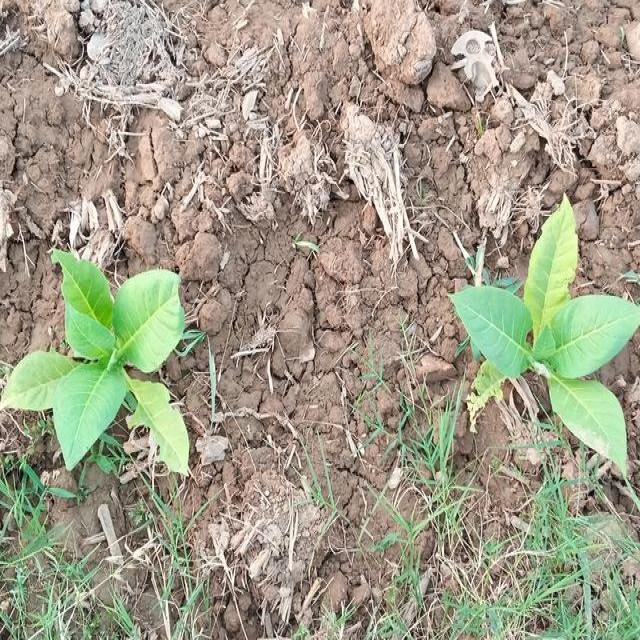crop: (461, 206, 631, 464), (16, 245, 179, 485)
